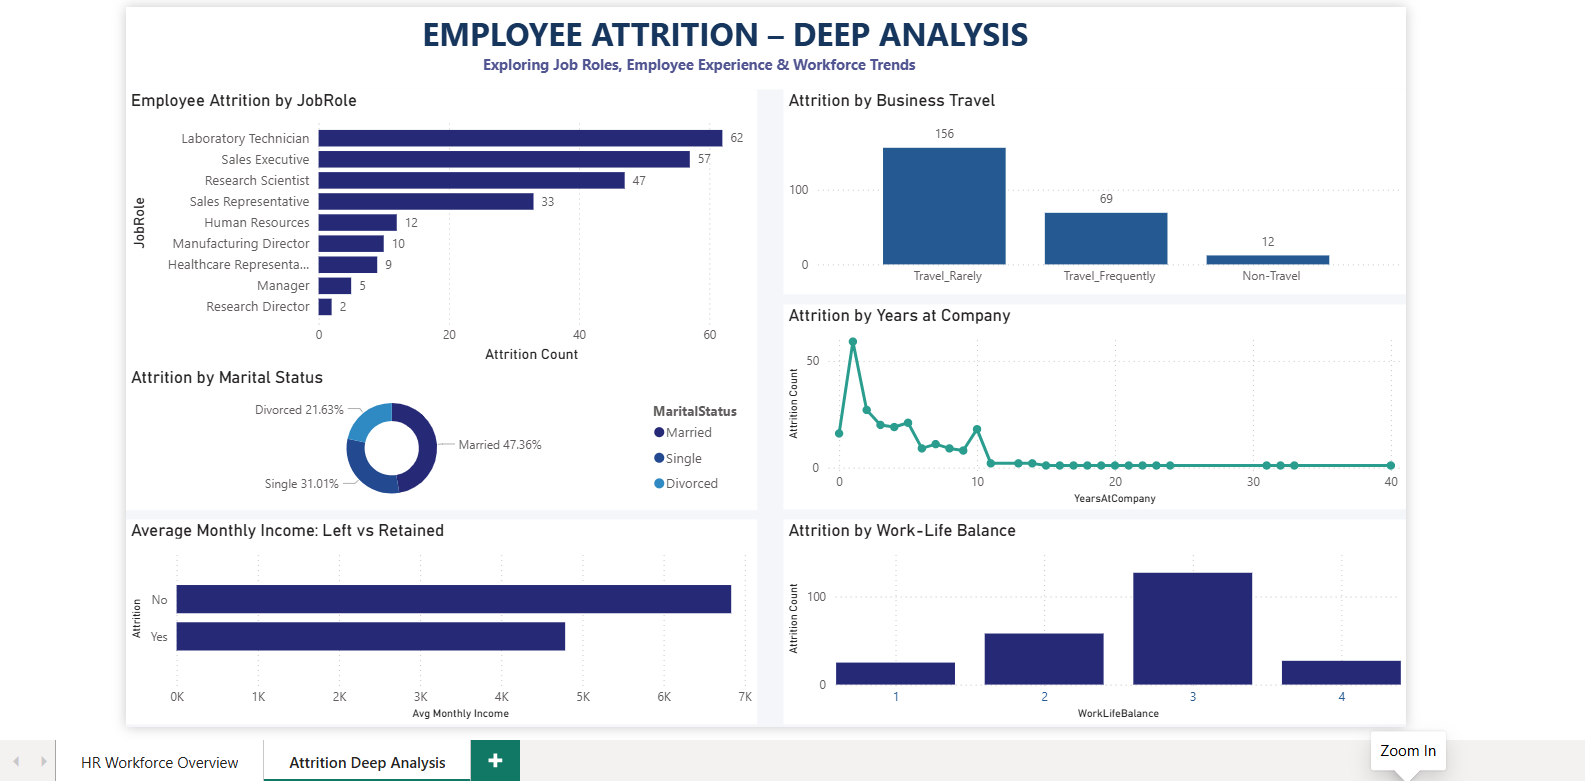

This screenshot's page, from the dashboard's own definition file:
{"tool":"powerbi","page":{"name":"Attrition Deep Analysis","canvas":[1280,720],"ordinal":1},"visuals":[{"type":"textbox","box":[0,0,1280,82],"z":0},{"type":"clusteredBarChart","title":"Employee Attrition by JobRole","fields":{"Category":["HR_Analytics csv csv HR_Analytics_Cleaned.JobRole"],"Y":["HR_Analytics csv csv HR_Analytics_Cleaned.Attrition Count"]},"box":[0,82,631,277.5],"z":1000},{"type":"donutChart","title":"Attrition by Marital Status","fields":{"Category":["HR_Analytics csv csv HR_Analytics_Cleaned.MaritalStatus"],"Y":["Sum(HR_Analytics csv csv HR_Analytics_Cleaned.EmployeeNumber)"]},"box":[0,359.5,631,143.6],"z":2000},{"type":"clusteredColumnChart","title":"Attrition by Business Travel","fields":{"Category":["HR_Analytics csv csv HR_Analytics_Cleaned.BusinessTravel"],"Y":["HR_Analytics csv csv HR_Analytics_Cleaned.Attrition Count"]},"box":[657.5,82,622.5,205.1],"z":3000},{"type":"lineChart","title":"Attrition by Years at Company","fields":{"Category":["HR_Analytics csv csv HR_Analytics_Cleaned.YearsAtCompany"],"Y":["HR_Analytics csv csv HR_Analytics_Cleaned.Attrition Count"]},"box":[657.5,298,622.5,205.1],"z":4000},{"type":"clusteredBarChart","title":"Average Monthly Income: Left vs Retained","fields":{"Category":["HR_Analytics csv csv HR_Analytics_Cleaned.Attrition"],"Y":["HR_Analytics csv csv HR_Analytics_Cleaned.Avg Monthly Income"]},"box":[0,512.7,631,205.1],"z":5000},{"type":"clusteredColumnChart","title":"Attrition by Work-Life Balance","fields":{"Category":["HR_Analytics csv csv HR_Analytics_Cleaned.WorkLifeBalance"],"Y":["HR_Analytics csv csv HR_Analytics_Cleaned.Attrition Count"]},"box":[657.5,512.7,622.5,205.1],"z":6000}]}

Visuals, with their boxes on the page's 1280x720 design canvas (x1, y1, x2, y2). These are canvas units, not pixel positions in the 1585x781 screenshot, which may show the page scaled, cropped or inside an application window:
textbox: detection(0, 0, 1280, 82)
"Employee Attrition by JobRole" clusteredBarChart: detection(0, 82, 631, 360)
"Attrition by Marital Status" donutChart: detection(0, 360, 631, 503)
"Attrition by Business Travel" clusteredColumnChart: detection(658, 82, 1280, 287)
"Attrition by Years at Company" lineChart: detection(658, 298, 1280, 503)
"Average Monthly Income: Left vs Retained" clusteredBarChart: detection(0, 513, 631, 718)
"Attrition by Work-Life Balance" clusteredColumnChart: detection(658, 513, 1280, 718)
